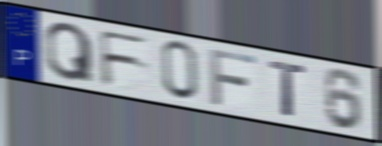0: (159, 39, 201, 103)
6: (322, 66, 364, 132)
F: (96, 28, 152, 88), (207, 46, 259, 108)
Q: (42, 21, 96, 85)
T: (267, 58, 309, 120)
